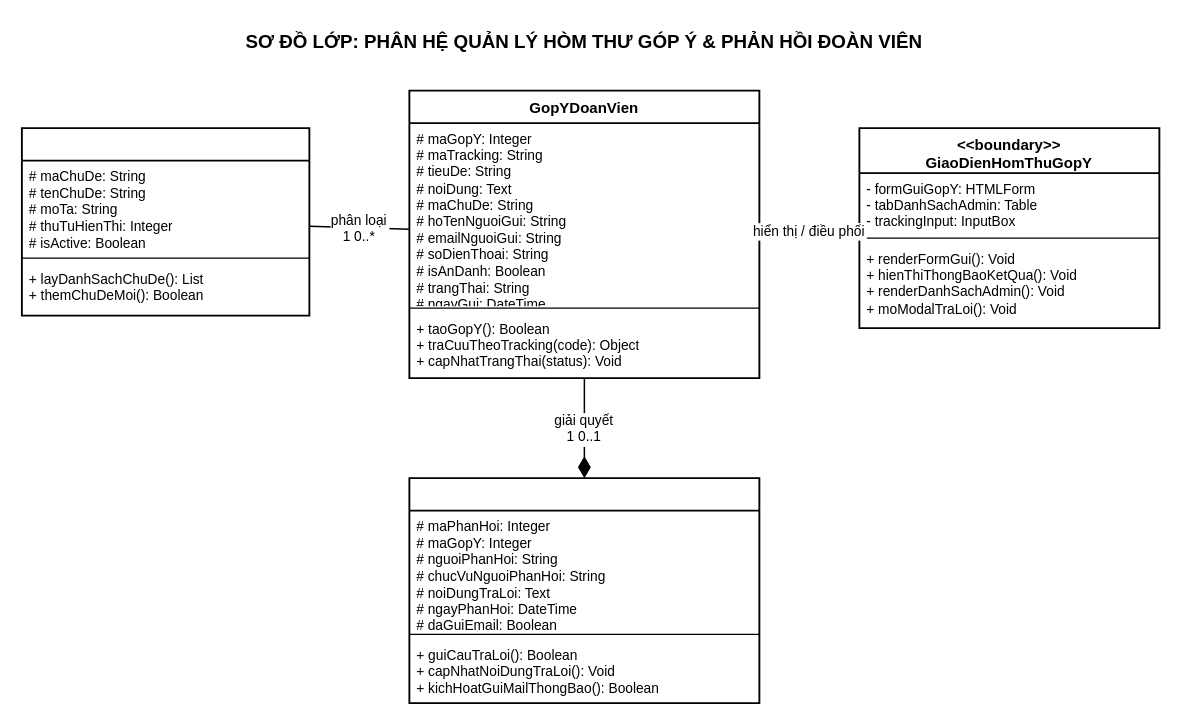
Some shapes in this 1183 by 728 pixel diagram are drawn without their labels. The shapes that lost their labels are listed below. From the top down, each one's box as (x1, y1, x2, y2) in pixels, then its label:
(20, 127, 310, 316): ChuDeGopY
(408, 477, 760, 704): PhanHoiGopY
